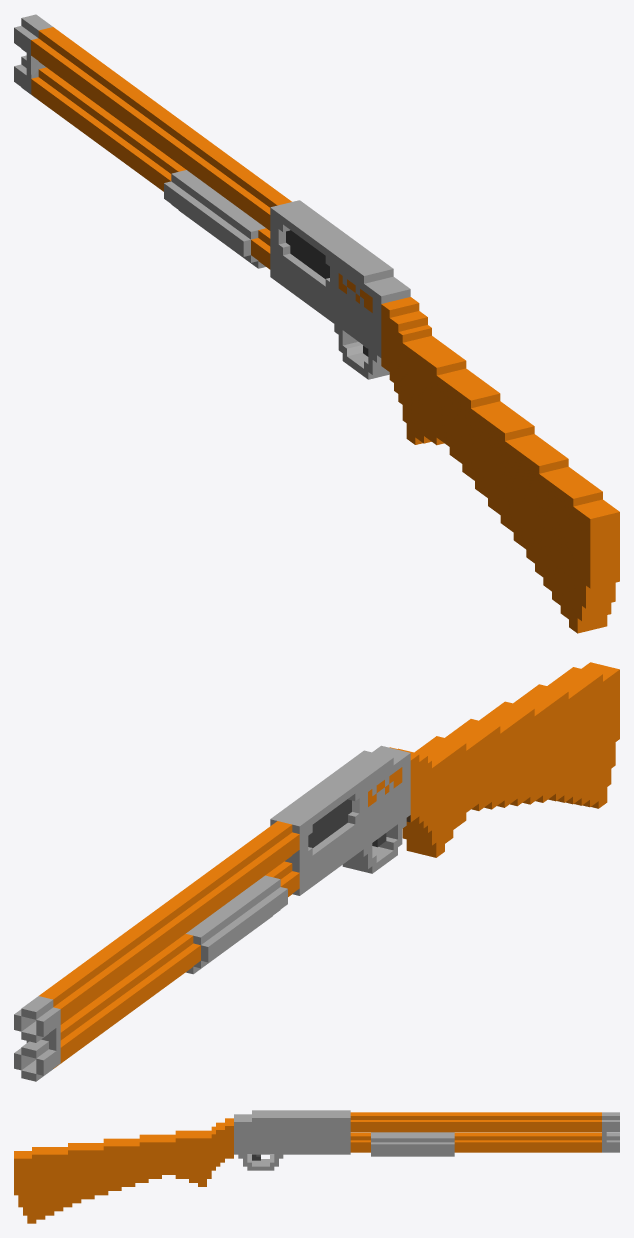
Rendered from Shotgun.fbx.
3 renders of one model, top to bottom at view 1: azimuth 30°, elevation 25°; view 2: azimuth 150°, elevation 25°; view 3: azimuth 270°, elevation 25°, orthographic. The views are drawn at different scales.
Parts seen in each view (by area): view 1: Shotgun1; view 2: Shotgun1; view 3: Shotgun1.
Part boxes in pixels (bbox=[...]): Shotgun1: bbox=[14, 14, 619, 633]; Shotgun1: bbox=[14, 662, 619, 1081]; Shotgun1: bbox=[14, 1110, 619, 1223].
Size of what is drawn, in the model's own units: 0.1626 by 0.7046 by 3.66.
